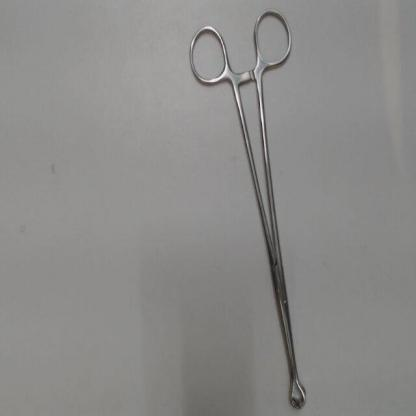8 Babcock Tissue Forceps: (183, 1, 313, 413)
